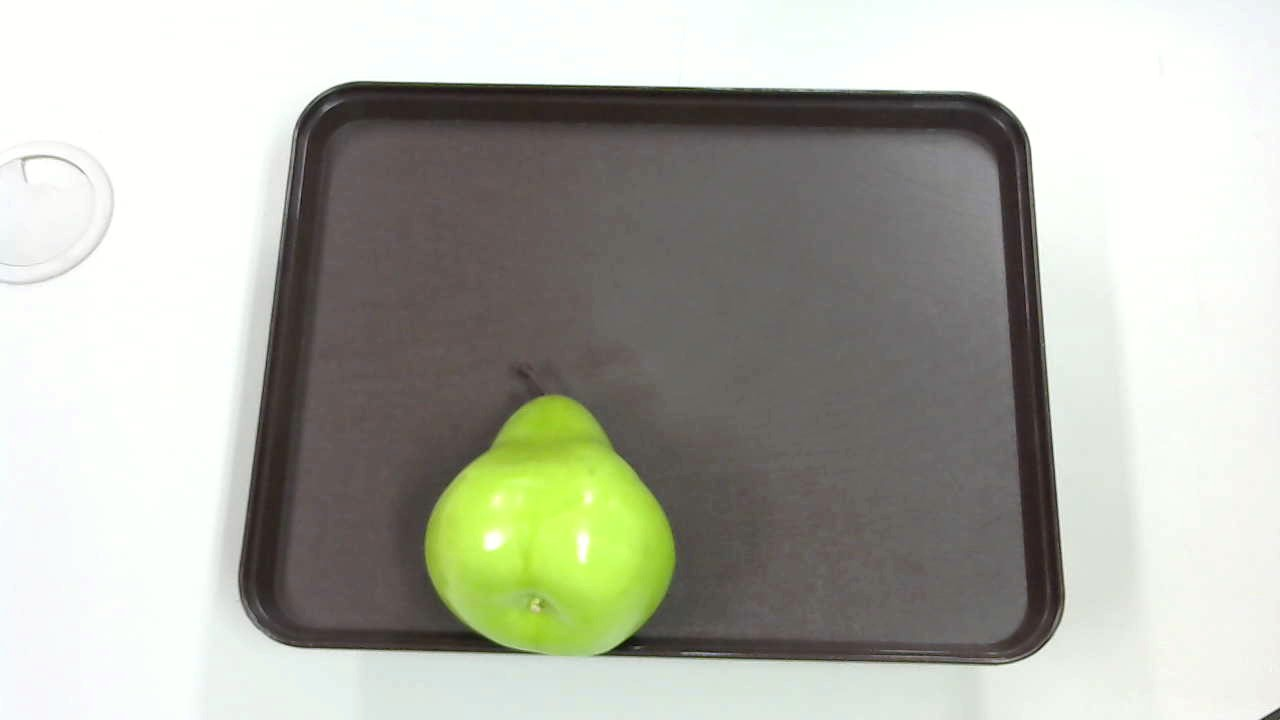green pear: (413, 356, 691, 664)
